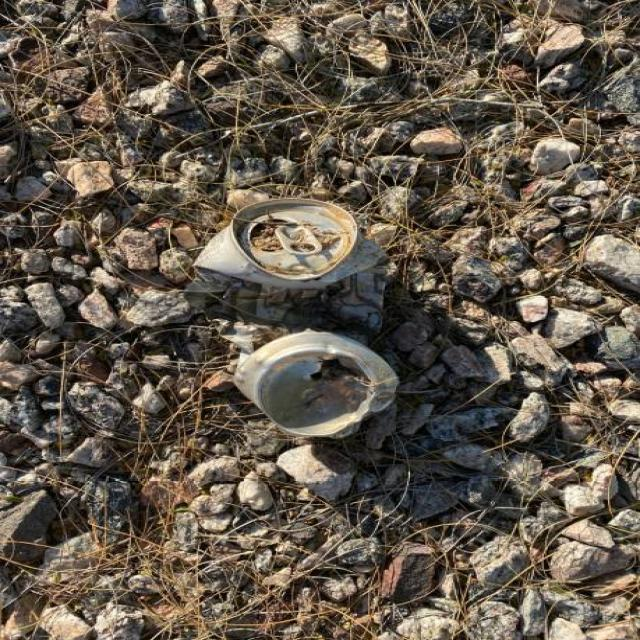metal: (212, 196, 445, 434)
